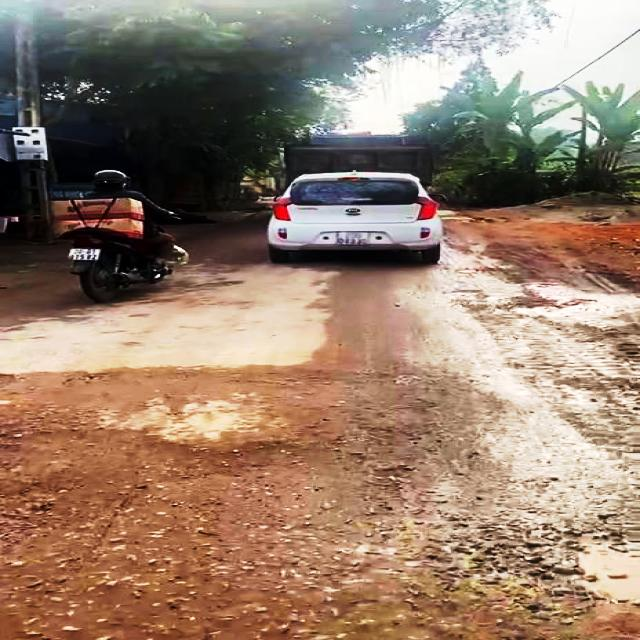pothole: (437, 508, 640, 610)
